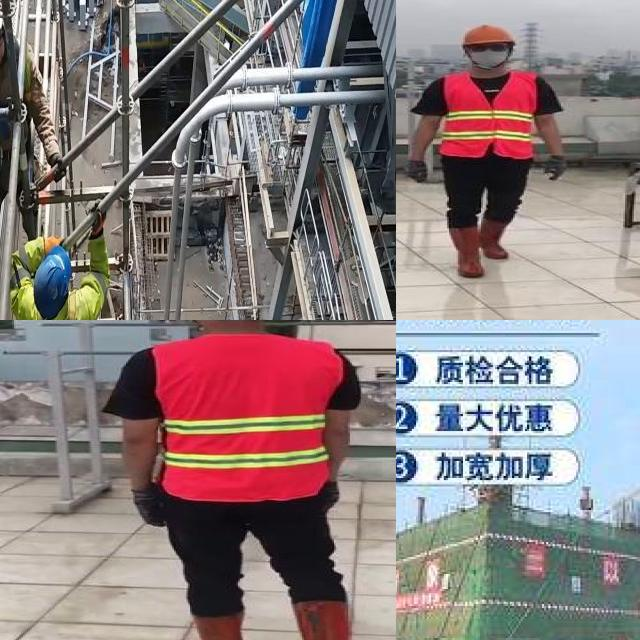boots: (293, 600, 375, 640), (175, 611, 257, 640), (449, 224, 485, 277), (484, 218, 510, 263)
face_mask: (467, 42, 509, 66)
glasses: (468, 41, 510, 54)
hand_glove: (130, 487, 168, 529), (406, 161, 432, 184), (543, 155, 565, 181)
head_helmet: (458, 24, 516, 45)
person: (400, 21, 574, 283)
vest: (154, 336, 340, 500), (440, 71, 536, 161)
